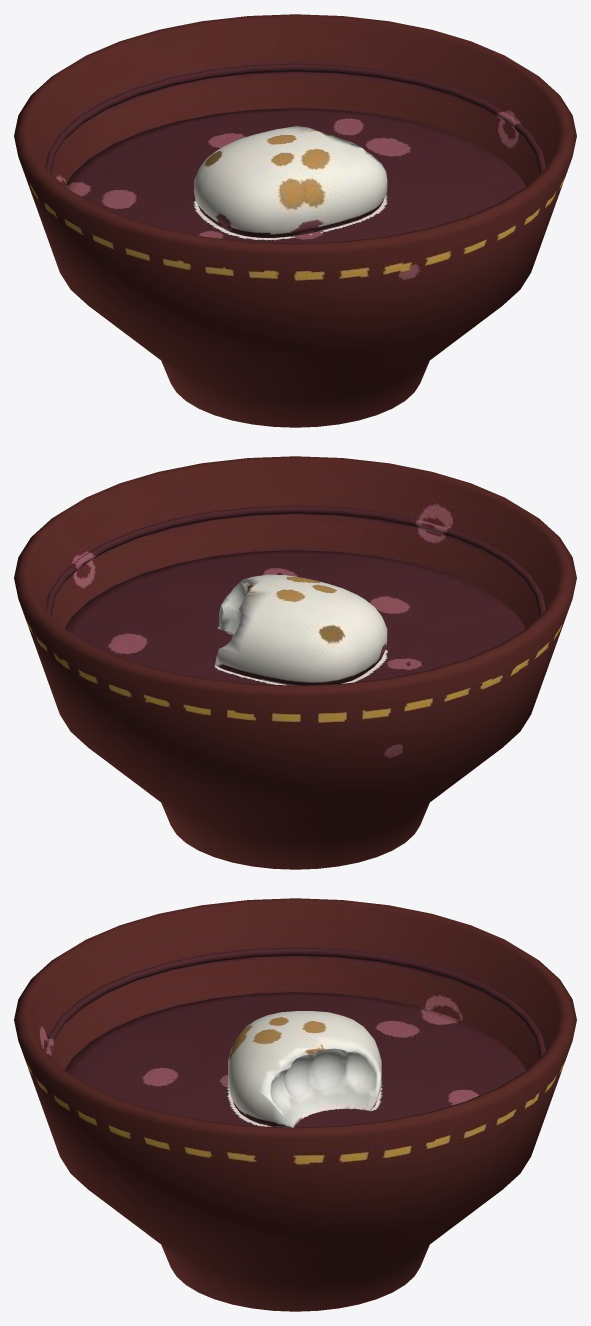
Rendered from oshiruko_b1.glb.
The picture shows the model from 3 angles, top to bottom: view 1: azimuth 30°, elevation 25°; view 2: azimuth 150°, elevation 25°; view 3: azimuth 270°, elevation 25°; orthographic projection.
Parts seen in each view (by area): view 1: prop_oshiruko_b1_felt; view 2: prop_oshiruko_b1_felt; view 3: prop_oshiruko_b1_felt.
Part boxes in pixels (left/top/right/bottom): prop_oshiruko_b1_felt: left=14, top=14, right=576, bottom=427; prop_oshiruko_b1_felt: left=14, top=456, right=576, bottom=869; prop_oshiruko_b1_felt: left=14, top=898, right=576, bottom=1311.
Bounding box in the file's own units: 0.18 × 0.0862 × 0.18.
Materials: 1 (1 with a texture image).
